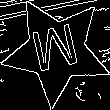M_S: (29, 21, 84, 81)
